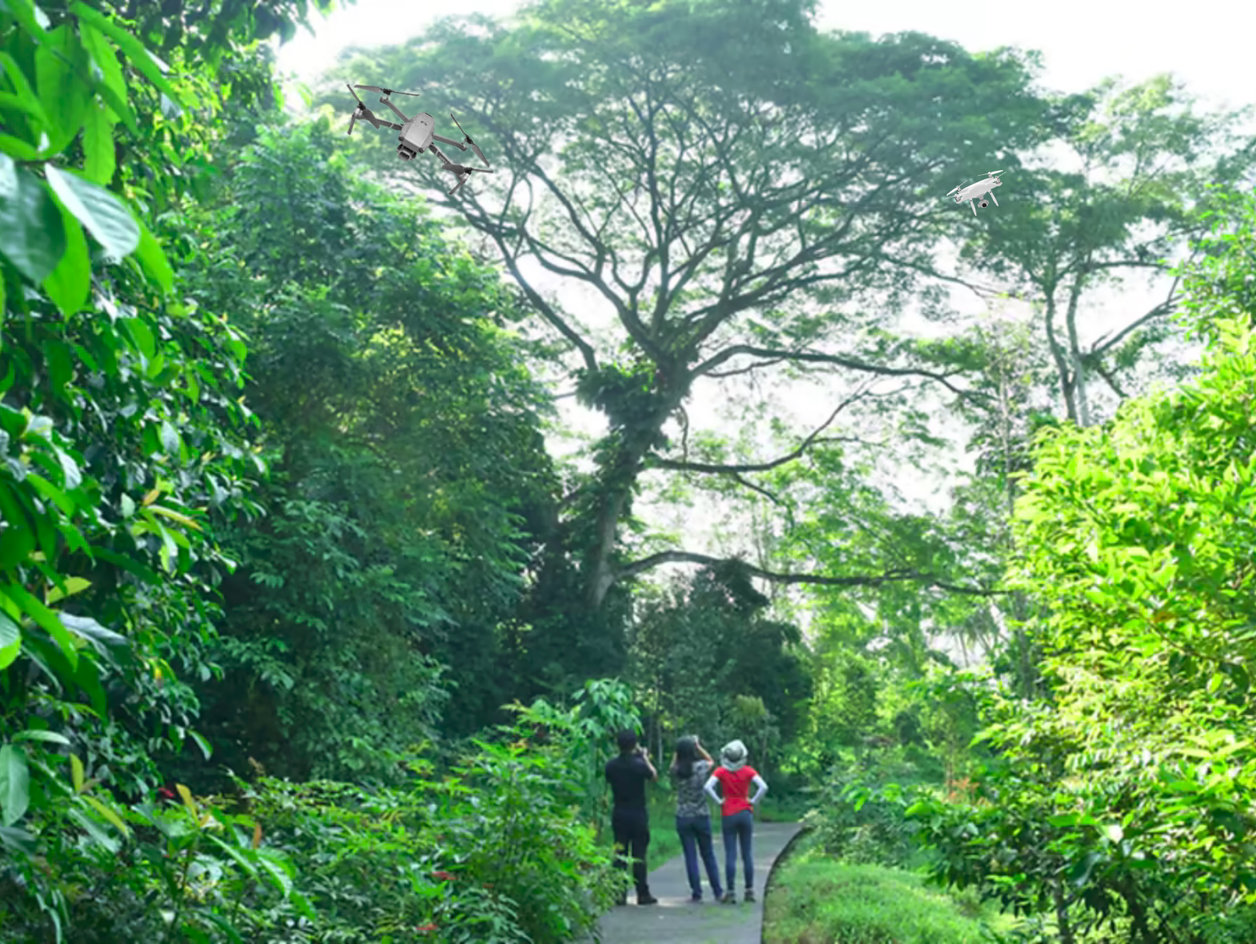drone_other: (340, 77, 494, 189), (947, 165, 1004, 216)
